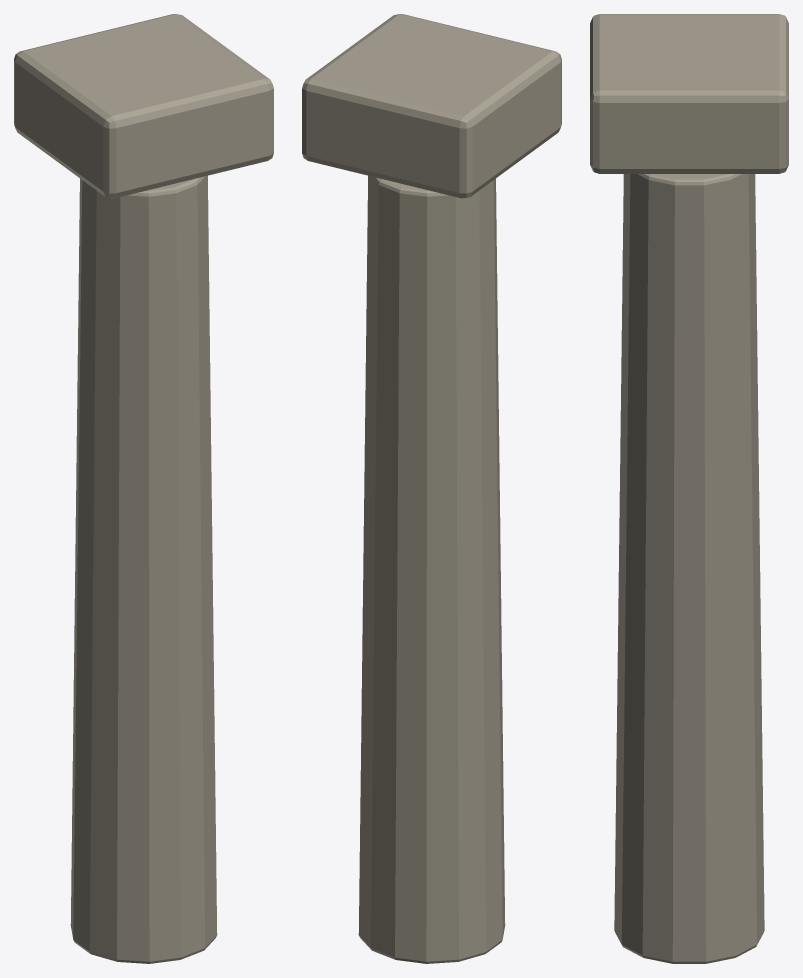
Rendered from falling_column_LOD1.glb.
3 renders of one model, left to right at view 1: azimuth 30°, elevation 25°; view 2: azimuth 150°, elevation 25°; view 3: azimuth 270°, elevation 25°, orthographic.
Visible parts, largest first — view 1: LOD1_ColumnShaft, LOD1_Capital; view 2: LOD1_ColumnShaft, LOD1_Capital; view 3: LOD1_ColumnShaft, LOD1_Capital.
Boxes of the visible parts, left/top/right/bottom form: LOD1_ColumnShaft: left=70, top=175, right=217, bottom=963; LOD1_Capital: left=14, top=14, right=273, bottom=198; LOD1_ColumnShaft: left=358, top=175, right=505, bottom=963; LOD1_Capital: left=302, top=14, right=561, bottom=198; LOD1_ColumnShaft: left=614, top=174, right=764, bottom=963; LOD1_Capital: left=590, top=14, right=788, bottom=173.
Size of the model in its own units: 0.82 by 4.02 by 0.82.
